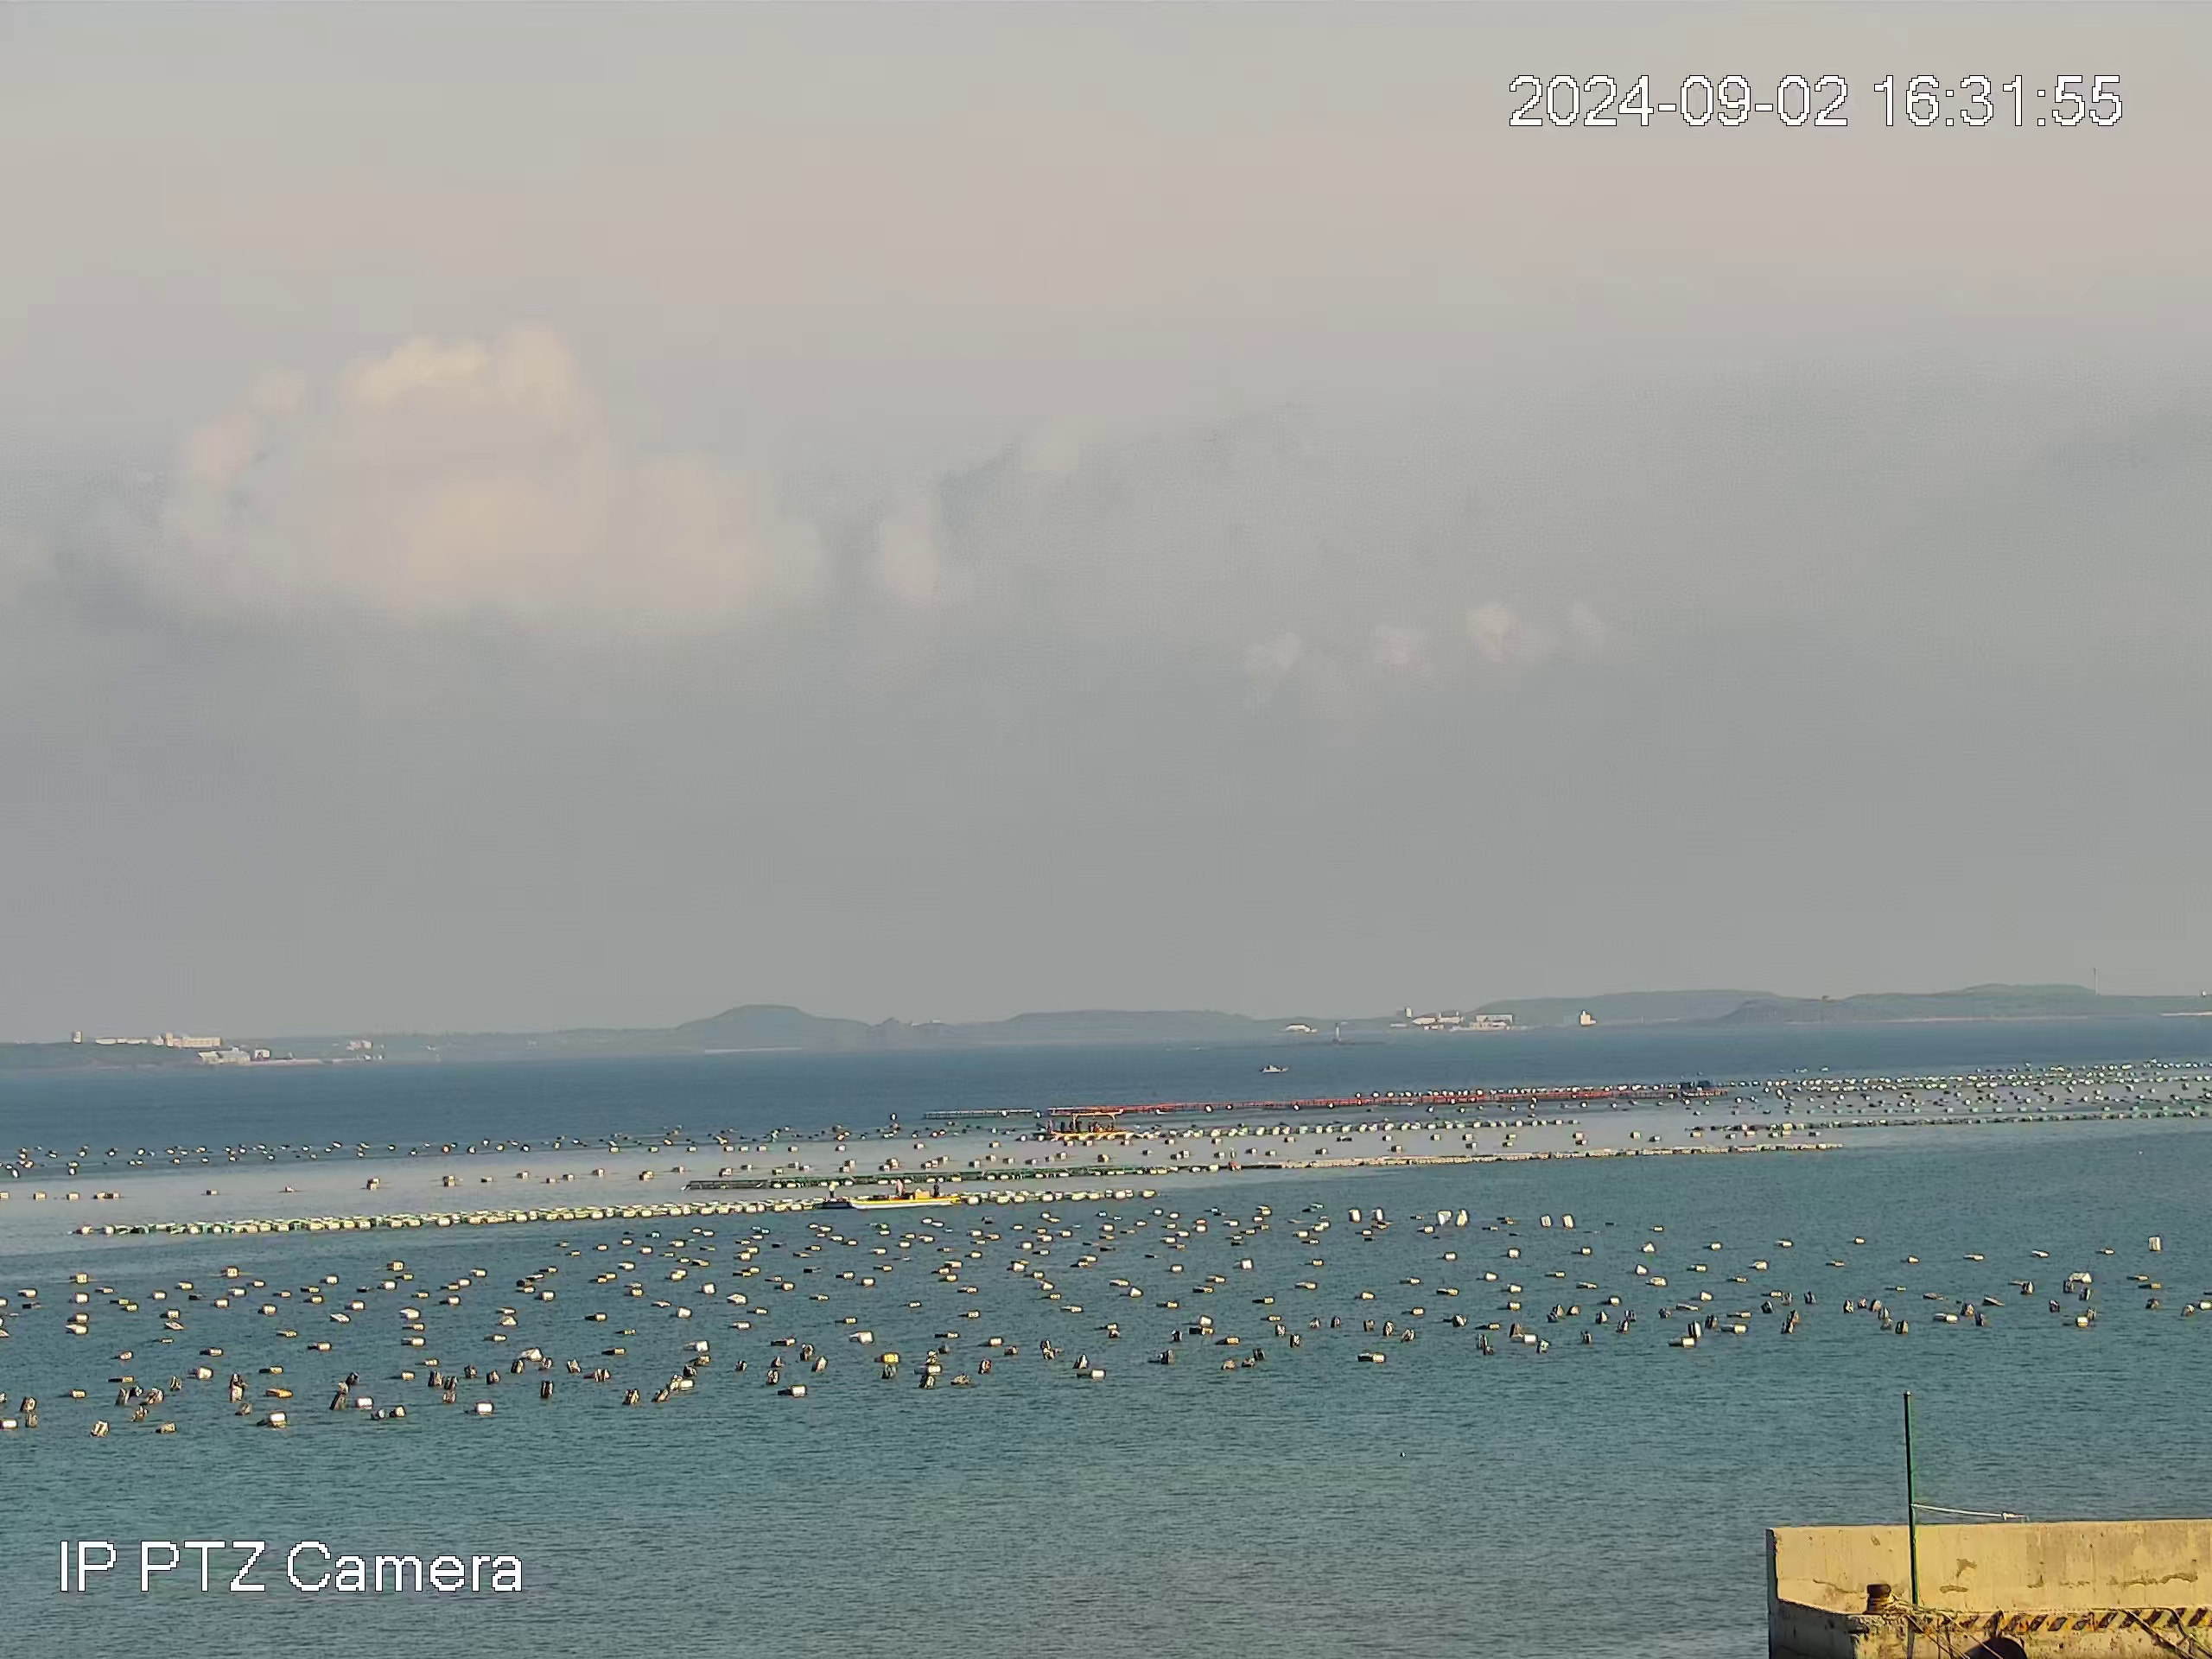boat: (845, 1178, 961, 1211), (1066, 1108, 1130, 1138), (1259, 1063, 1291, 1075)
